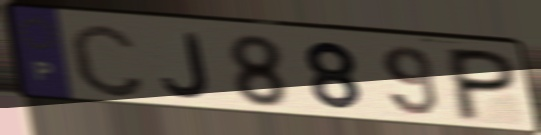8: (223, 32, 291, 110), (302, 38, 366, 113)
9: (378, 43, 441, 119)
C: (64, 20, 149, 100)
J: (159, 30, 213, 101)
P: (448, 45, 521, 124)
